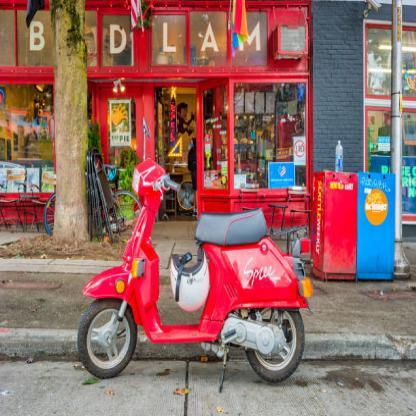Motorcycle: (74, 119, 314, 395)
